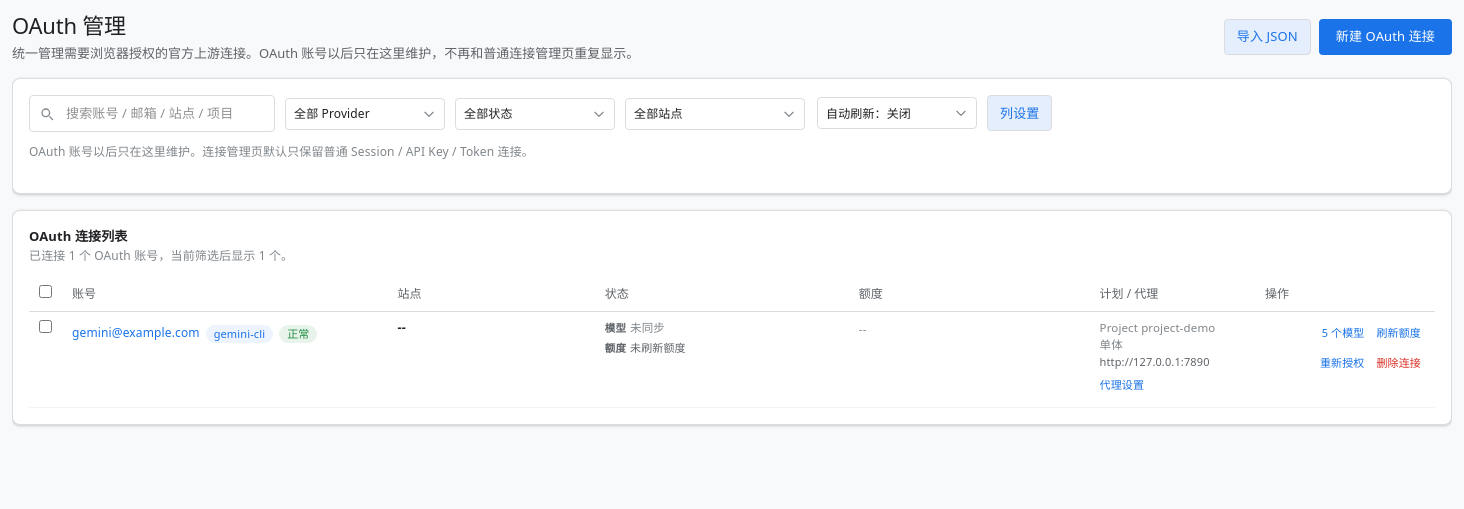
Test: OAuthManagement page › opens oauth proxy settings from the dedicated proxy action
Click the button "代理设置": (1172, 385) [1100, 371, 1245, 399]
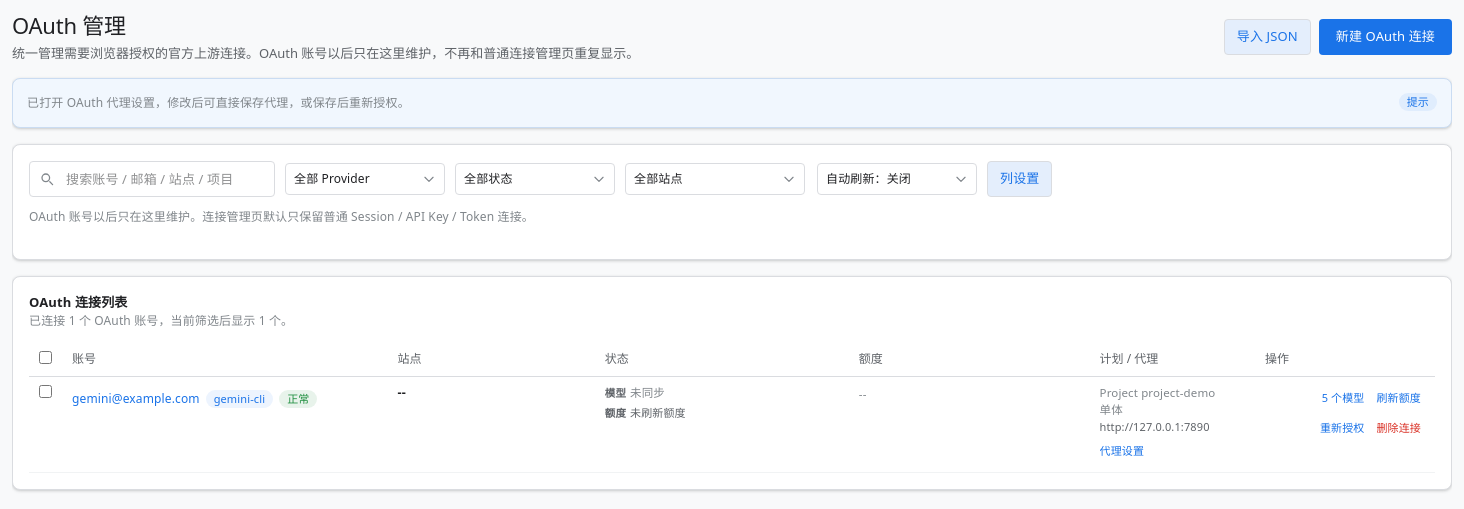
Expected: the text "已打开 OAuth 代理设置" is shown, [27, 94, 410, 111]
